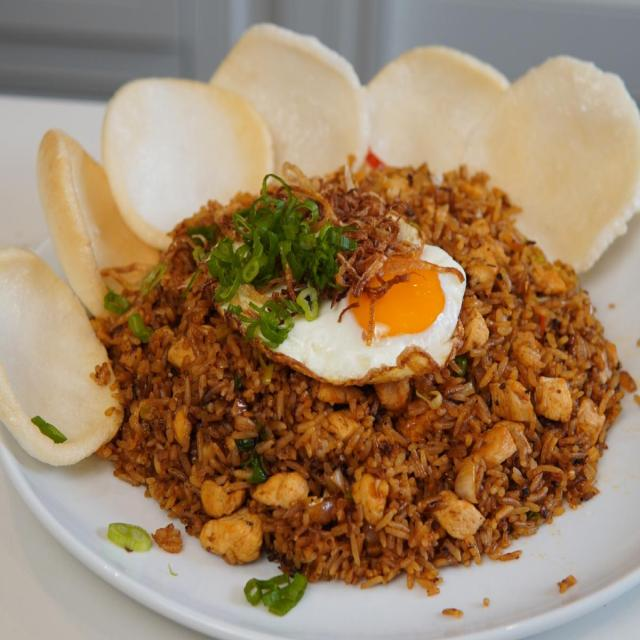Nasi Goreng: (83, 196, 639, 576)
